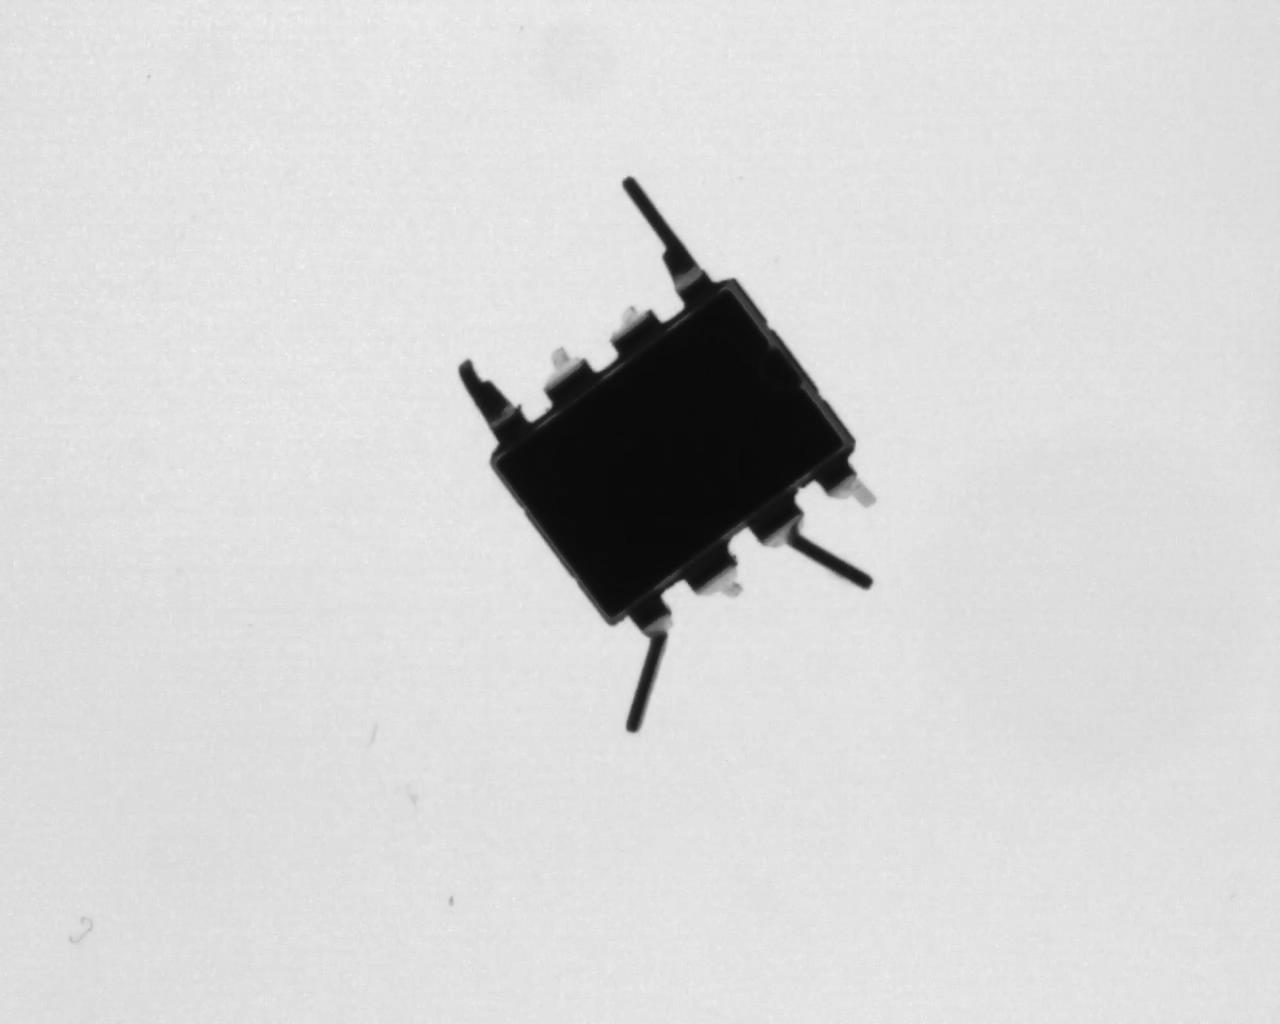Leg: (621, 172, 729, 297), (751, 510, 874, 590), (625, 592, 673, 732), (458, 357, 522, 441), (813, 457, 877, 508), (541, 346, 596, 404), (685, 545, 744, 598), (607, 304, 660, 355)
